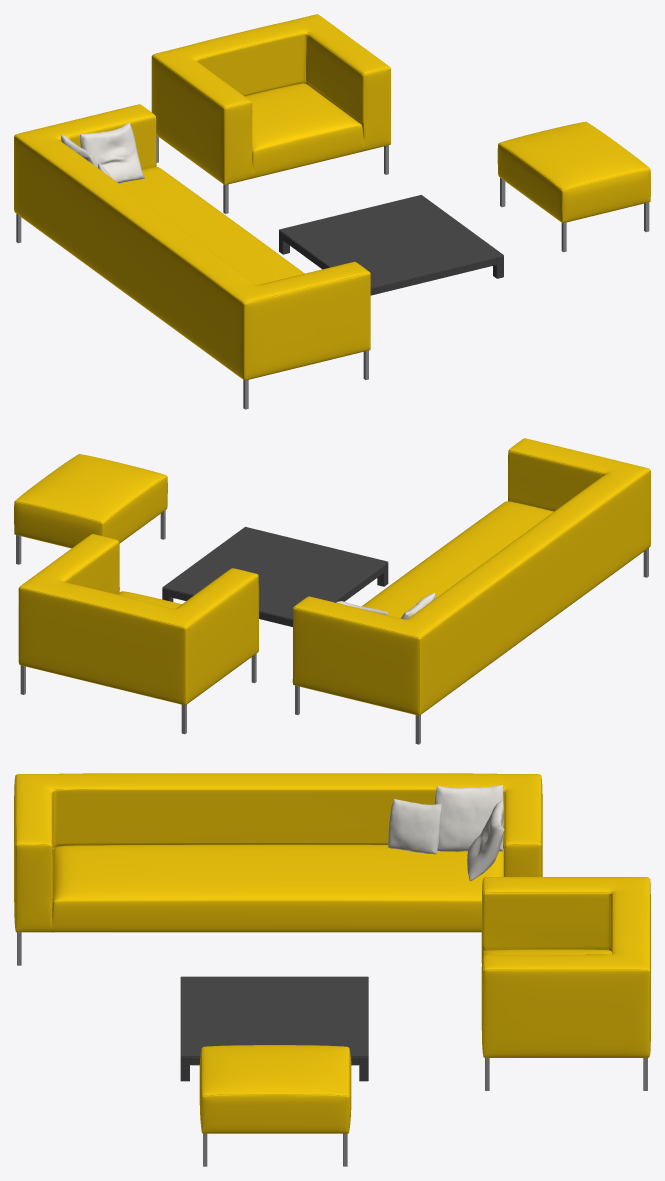
The model's file is chair .fbx.
3 renders of one model, top to bottom at view 1: azimuth 30°, elevation 25°; view 2: azimuth 150°, elevation 25°; view 3: azimuth 270°, elevation 25°, orthographic. The views are drawn at different scales.
Visible parts, largest first — view 1: chair.003; view 2: chair.003; view 3: chair.003.
Part boxes in pixels (x1,y1,x2,y2): chair.003: [14, 14, 650, 409]; chair.003: [14, 438, 650, 744]; chair.003: [14, 773, 650, 1166].
Bounding box in the file's own units: 343 × 75.58 × 339.
6 materials, 4 textured.
